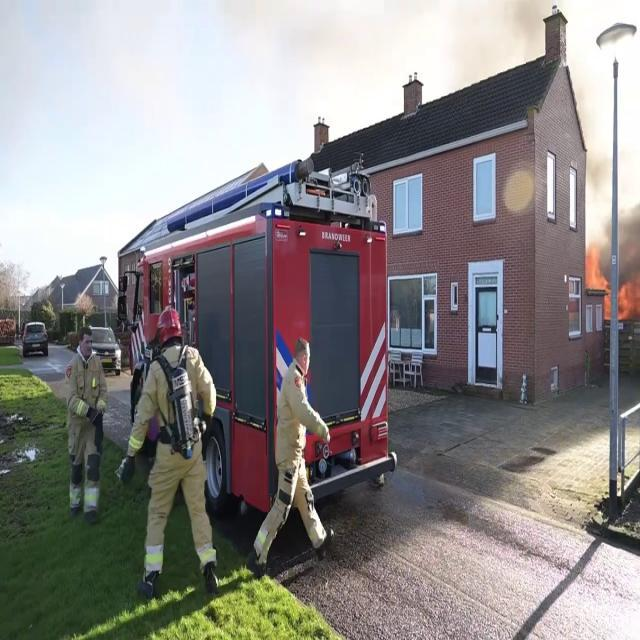Fire: (584, 238, 612, 318), (615, 264, 640, 323)
Smoke: (584, 137, 640, 290)
